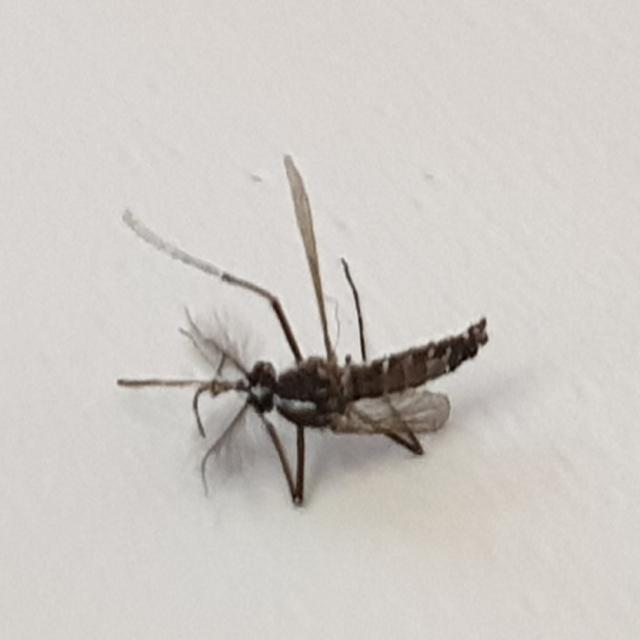albopictus: (109, 168, 484, 521)
